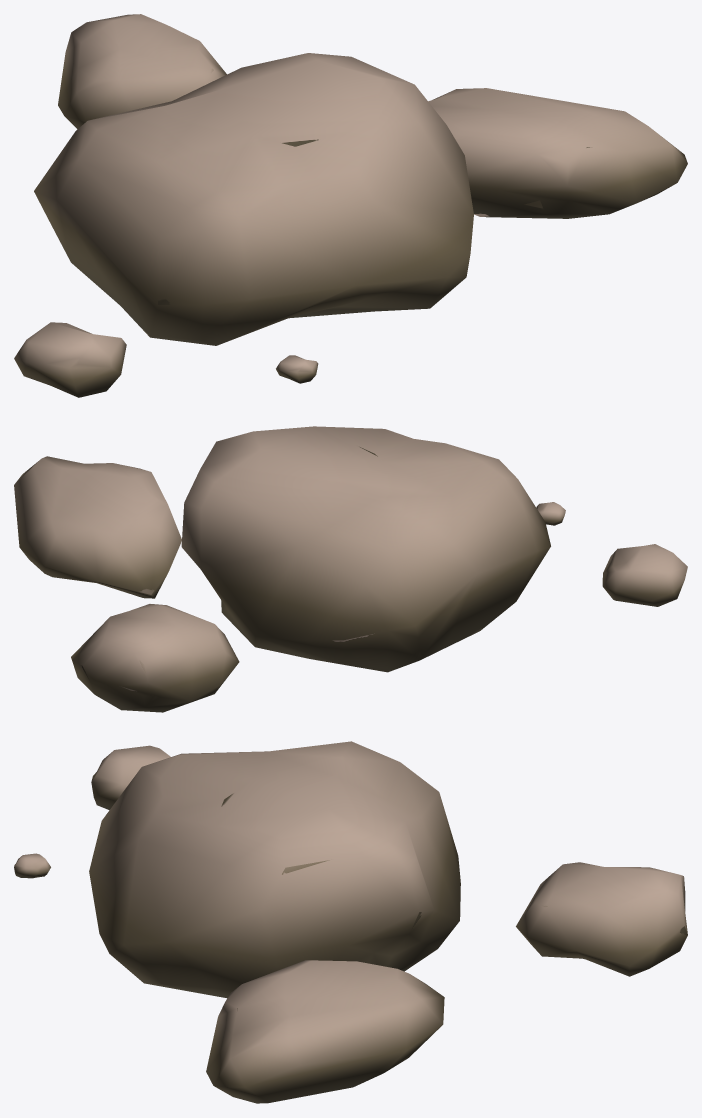
Rendered from Stone4.fbx.
The picture shows the model from 3 angles, top to bottom: view 1: azimuth 30°, elevation 25°; view 2: azimuth 150°, elevation 25°; view 3: azimuth 270°, elevation 25°; orthographic projection. The views are drawn at different scales.
Visible parts, largest first — view 1: Stone4.001; view 2: Stone4.001; view 3: Stone4.001.
Boxes of the visible parts, bbox=[...] form: Stone4.001: bbox=[14, 14, 687, 397]; Stone4.001: bbox=[14, 426, 687, 712]; Stone4.001: bbox=[14, 741, 687, 1103].
Bounding box in the file's own units: 436 × 126 × 381.
